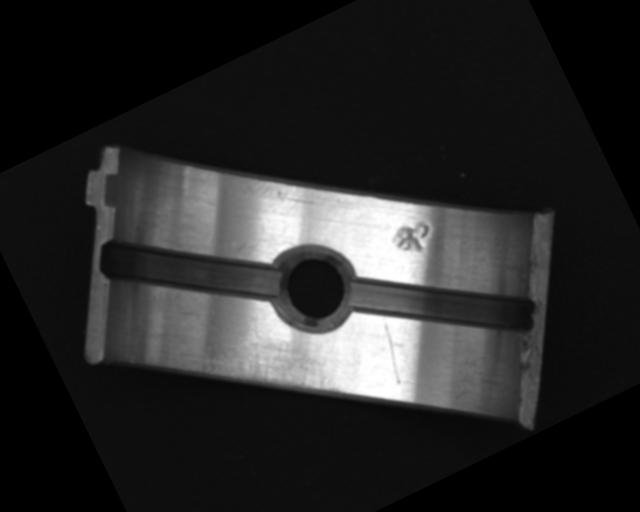bruise: (386, 214, 442, 267)
gap: (90, 179, 291, 360), (342, 217, 542, 394)
hole: (254, 226, 370, 344)
nick: (369, 319, 415, 385)
scratch: (185, 295, 349, 448)
